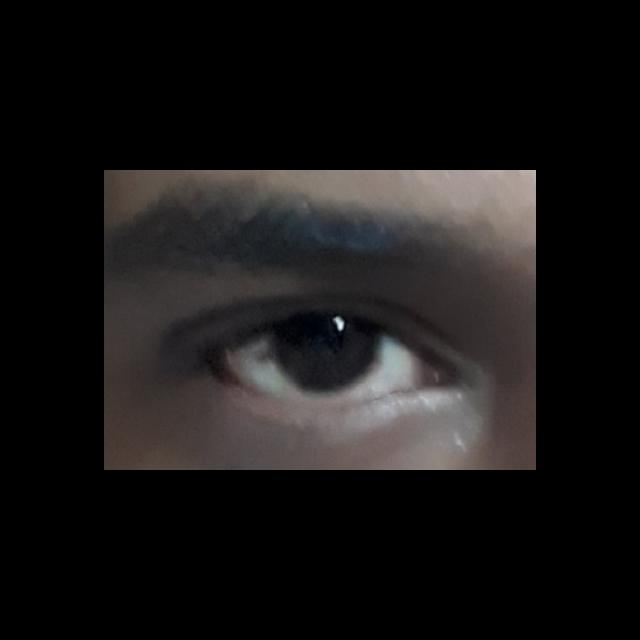eye: (223, 312, 427, 408)
iris: (270, 318, 383, 393)
